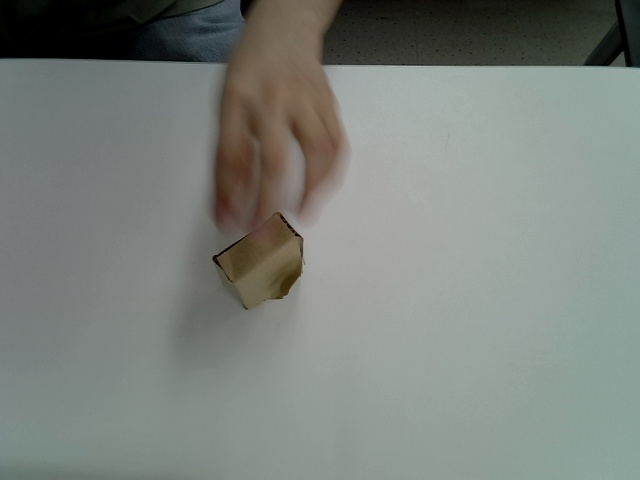defect: (213, 213, 307, 311)
